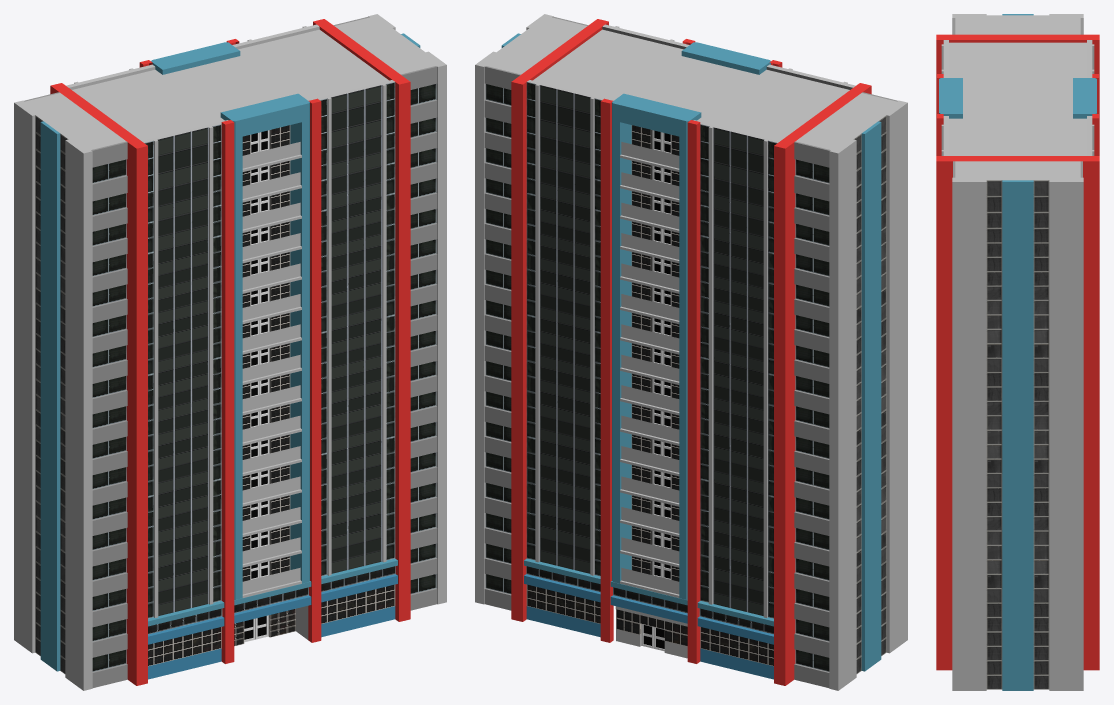
3 renders of one model, left to right at view 1: azimuth 30°, elevation 25°; view 2: azimuth 150°, elevation 25°; view 3: azimuth 270°, elevation 25°, orthographic. The views are drawn at different scales.
Parts seen in each view (by area): view 1: Building; view 2: Building; view 3: Building.
Boxes of the visible parts, x1,y1,x2,y2 form: Building: (14,14,446,690); Building: (475,14,907,690); Building: (936,14,1099,690).
Size of what is drawn, in the model's own units: 37.49 by 53.2 by 15.4.
